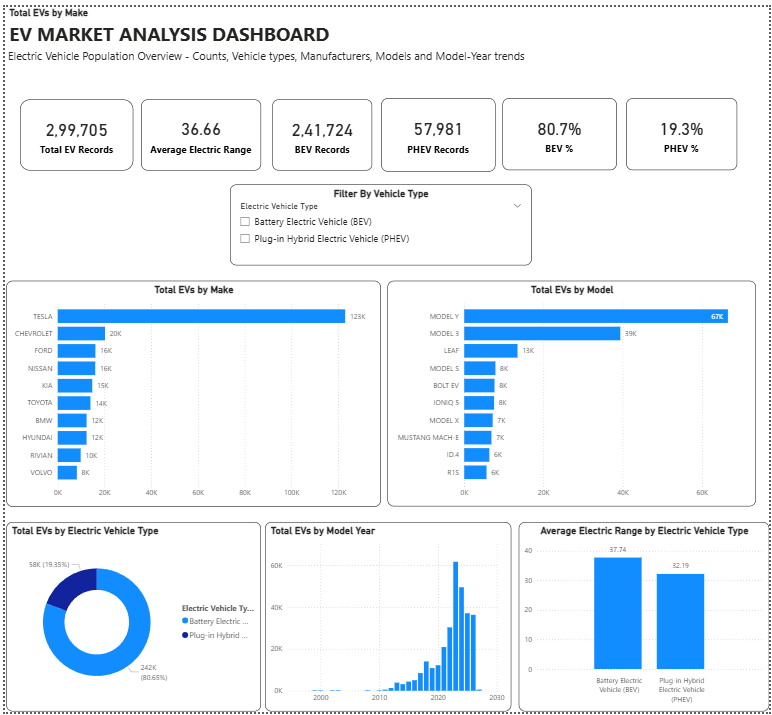

The dashboard page shown, as its layout file describes it:
{"tool":"powerbi","page":{"name":"Executive Dashboard","canvas":[1300,1200],"ordinal":0},"visuals":[{"type":"card","fields":{"Values":["export.Total EVs"]},"box":[26.4,158.5,192.5,120.8],"z":0},{"type":"card","fields":{"Values":["export.Average Electric Range"]},"box":[232.1,158.5,203.8,120.8],"z":1000},{"type":"card","fields":{"Values":["export.BEV Count"]},"box":[454.7,158.5,169.8,120.8],"z":2000},{"type":"card","fields":{"Values":["export.PHEV Count"]},"box":[639.6,154.7,194.3,124.5],"z":3000},{"type":"slicer","title":"Filter By Vehicle Type","fields":{"Values":["export.Electric Vehicle Type"]},"box":[383,301.9,513.2,137.7],"z":4000},{"type":"card","fields":{"Values":["export.BEV %"]},"box":[847.2,154.7,194.3,122.6],"z":5000},{"type":"card","fields":{"Values":["export.PHEV %"]},"box":[1058.5,154.7,188.7,122.6],"z":6000},{"type":"clusteredBarChart","fields":{"Category":["export.Make"],"Y":["export.Total EVs"]},"box":[1.9,466,637.7,384.9],"z":7000},{"type":"clusteredBarChart","fields":{"Category":["export.Model"],"Y":["export.Total EVs"]},"box":[651,466.7,627.5,384.3],"z":8000},{"type":"donutChart","fields":{"Category":["export.Electric Vehicle Type"],"Y":["export.Total EVs"]},"box":[1.9,877.4,434,322.6],"z":9000},{"type":"clusteredColumnChart","fields":{"Category":["export.Model Year"],"Y":["export.Total EVs"]},"box":[441.5,877.4,418.9,322.6],"z":10000},{"type":"clusteredColumnChart","fields":{"Category":["export.Electric Vehicle Type"],"Y":["export.Average Electric Range"]},"box":[873.6,877.4,426.4,322.6],"z":11000},{"type":"textbox","title":"Total EVs by Make","box":[1.9,0,1277.4,132.1],"z":12000},{"type":"textbox","box":[0,66.7,919.6,76.5],"z":13000}]}

Visuals, with their boxes in screenshot pixels (x1, y1, x2, y2), scaled from the page's 1300x1200 canvas onto the 772x715 screenshot:
card - export.Total EVs: l=16, t=94, r=130, b=166
card - export.Average Electric Range: l=138, t=94, r=259, b=166
card - export.BEV Count: l=270, t=94, r=371, b=166
card - export.PHEV Count: l=380, t=92, r=495, b=166
"Filter By Vehicle Type" slicer: l=227, t=180, r=532, b=262
card - export.BEV %: l=503, t=92, r=618, b=165
card - export.PHEV %: l=629, t=92, r=741, b=165
clusteredBarChart - export.Make x export.Total EVs: l=1, t=278, r=380, b=507
clusteredBarChart - export.Model x export.Total EVs: l=387, t=278, r=759, b=507
donutChart - export.Electric Vehicle Type x export.Total EVs: l=1, t=523, r=259, b=714
clusteredColumnChart - export.Model Year x export.Total EVs: l=262, t=523, r=511, b=714
clusteredColumnChart - export.Electric Vehicle Type x export.Average Electric Range: l=519, t=523, r=771, b=714
"Total EVs by Make" textbox: l=1, t=0, r=760, b=79
textbox: l=0, t=40, r=546, b=85
